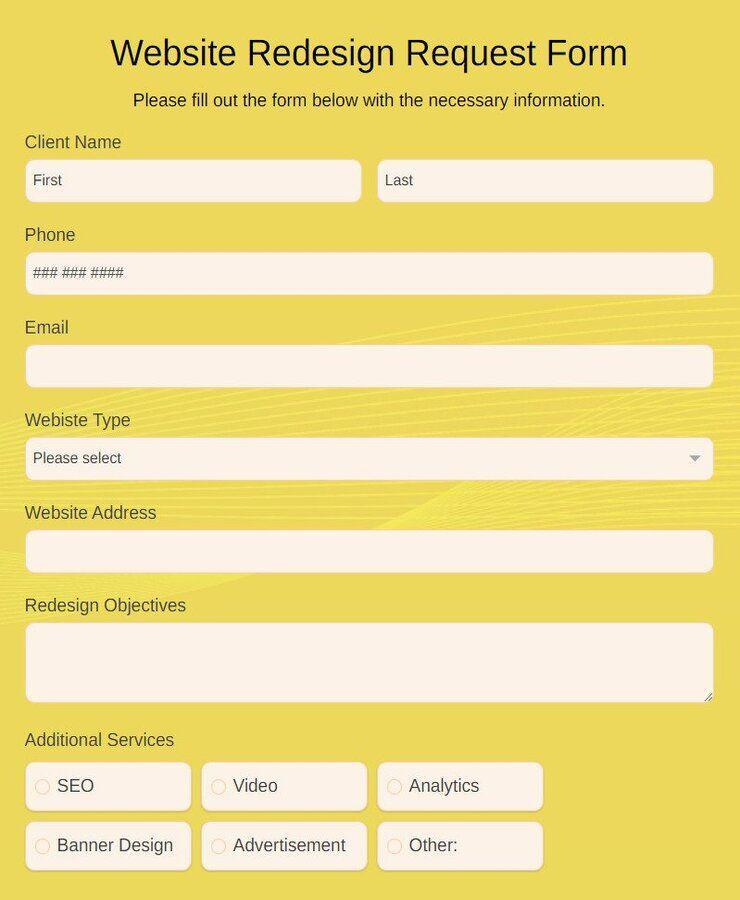dropdown: (27, 439, 714, 482)
input: (25, 530, 717, 574), (25, 344, 715, 388), (26, 253, 715, 296), (25, 159, 363, 206), (377, 160, 713, 202)
label: (27, 726, 180, 753), (25, 598, 189, 621), (19, 500, 161, 525), (56, 836, 176, 858), (24, 133, 125, 157), (233, 837, 348, 856), (21, 412, 133, 429), (407, 777, 482, 798), (24, 223, 77, 246), (19, 318, 75, 338), (410, 836, 461, 856), (233, 777, 281, 796), (56, 777, 96, 796)
radio: (387, 837, 405, 858), (35, 779, 52, 797), (211, 779, 228, 796), (212, 838, 228, 856), (388, 779, 404, 796), (36, 839, 51, 856)
